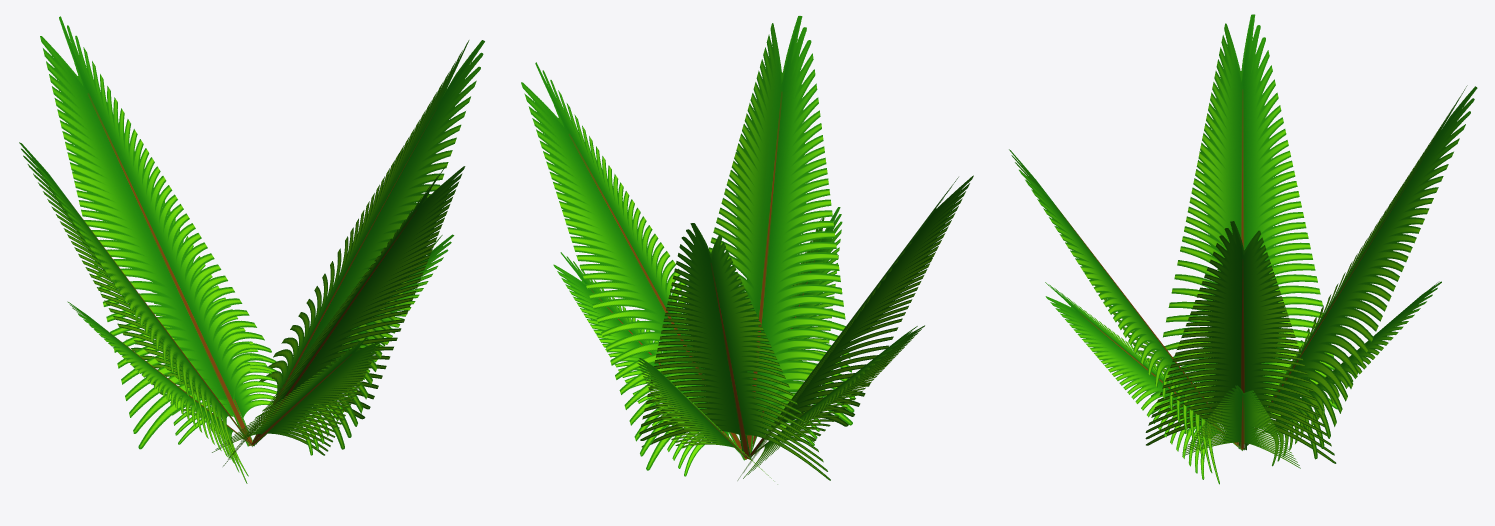
File: Palm3_LOD1.fbx
3 renders of one model, left to right at view 1: azimuth 30°, elevation 25°; view 2: azimuth 150°, elevation 25°; view 3: azimuth 270°, elevation 25°, orthographic. The views are drawn at different scales.
Parts seen in each view (by area): view 1: Palm3_LOD1; view 2: Palm3_LOD1; view 3: Palm3_LOD1.
Part boxes in pixels (x1,y1,x2,y2): Palm3_LOD1: [19, 16, 484, 483]; Palm3_LOD1: [521, 15, 973, 484]; Palm3_LOD1: [1009, 14, 1477, 484].
Bounding box in the file's own units: 318 × 248 × 303.
